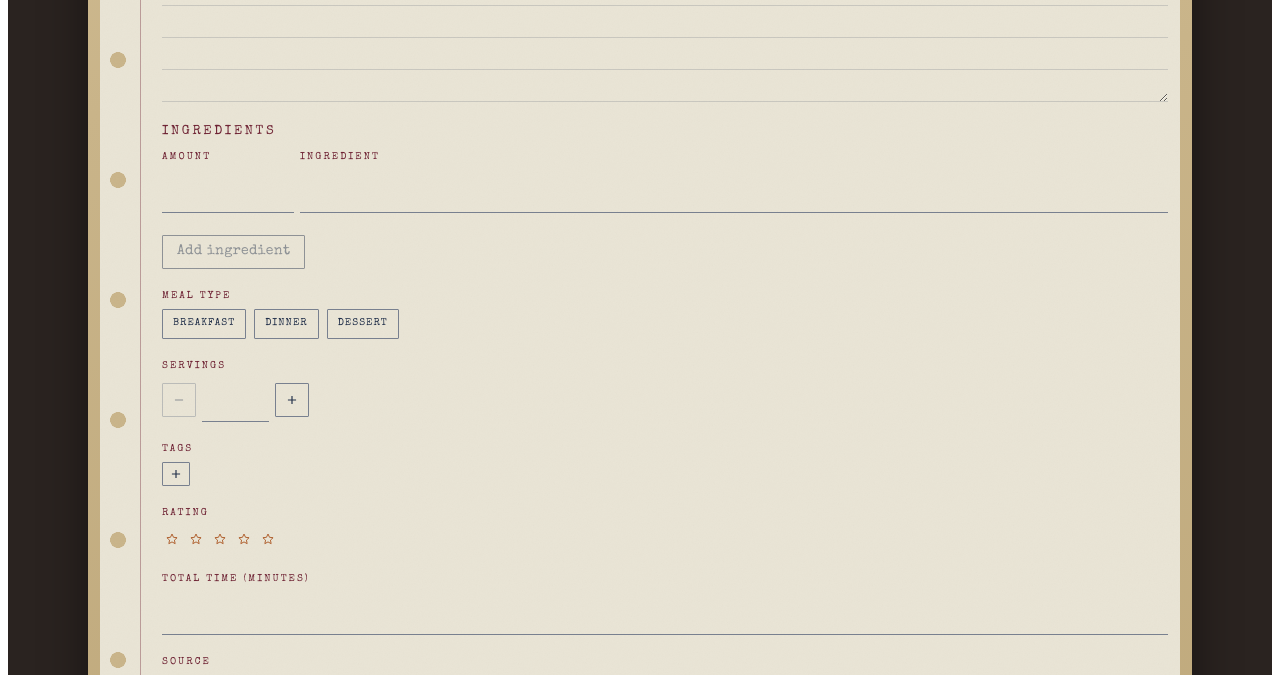
Test: validation at the field, not at save › rejects a non-numeric servings on the keystroke
The image size is (1280, 675).
(page scrolled)
Type "4o" into the field with test id "servings". click: (236, 400)
box: [202,378,269,422]
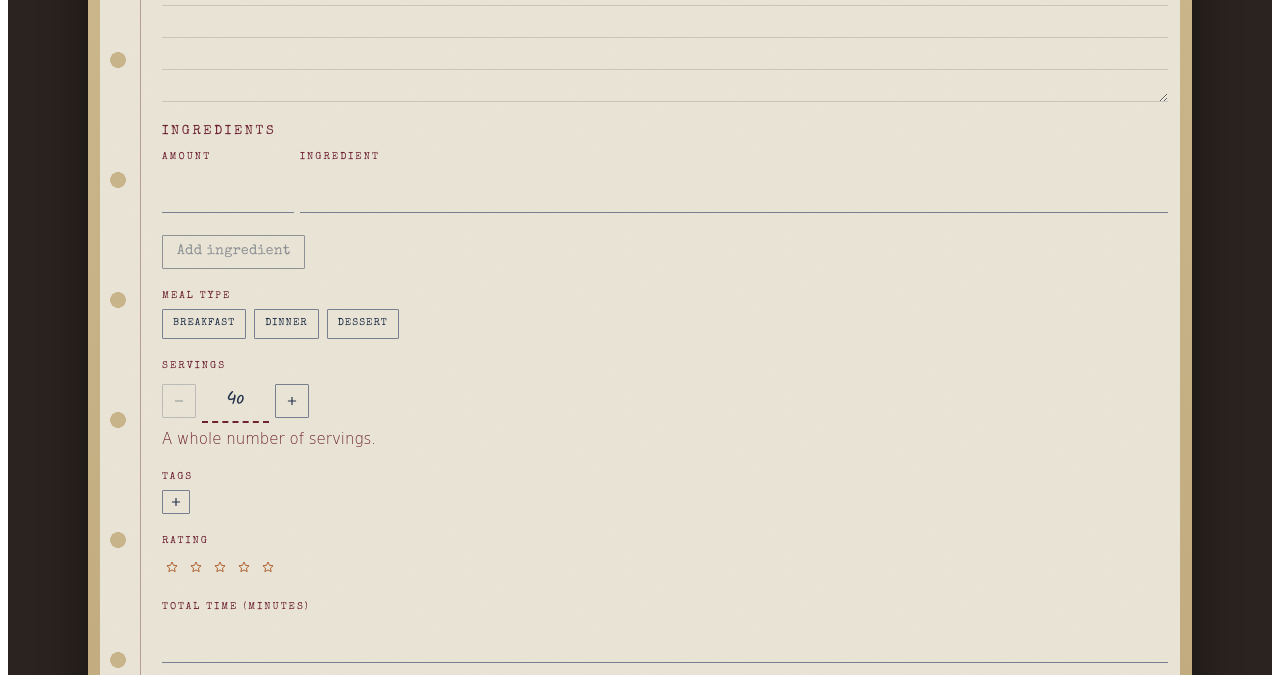
expect the message with test id "servings-error" reads "A whole number of servings.": met, box [162,430,376,448]
